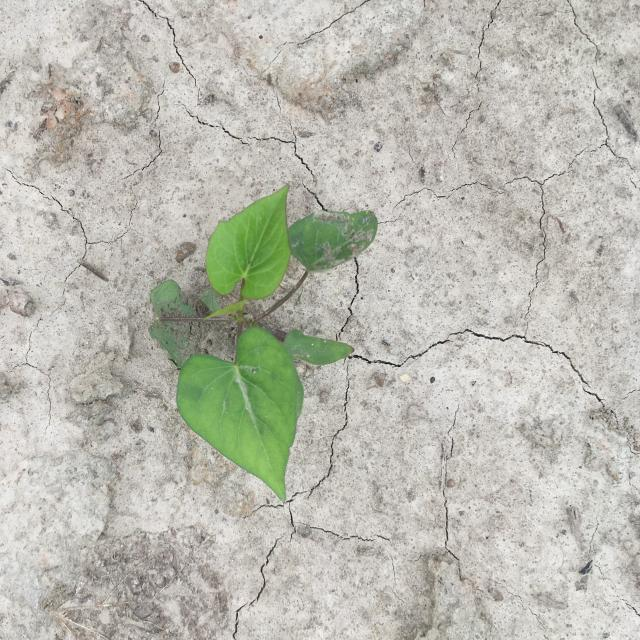MorningGlory: (149, 183, 378, 501)
